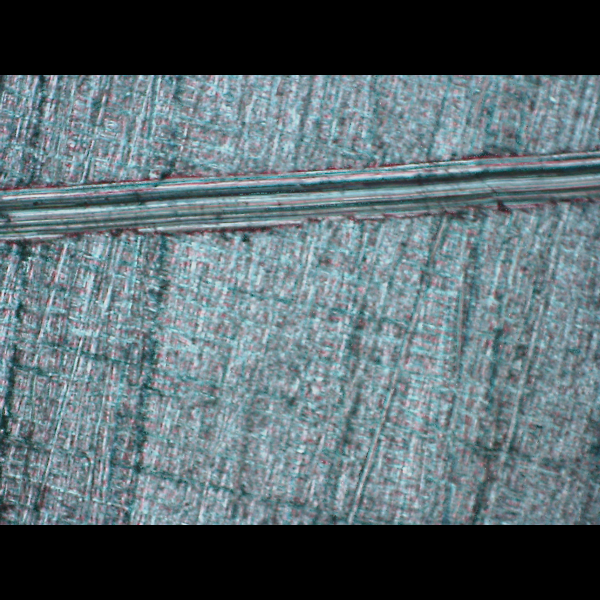d: (0, 130, 599, 250)
